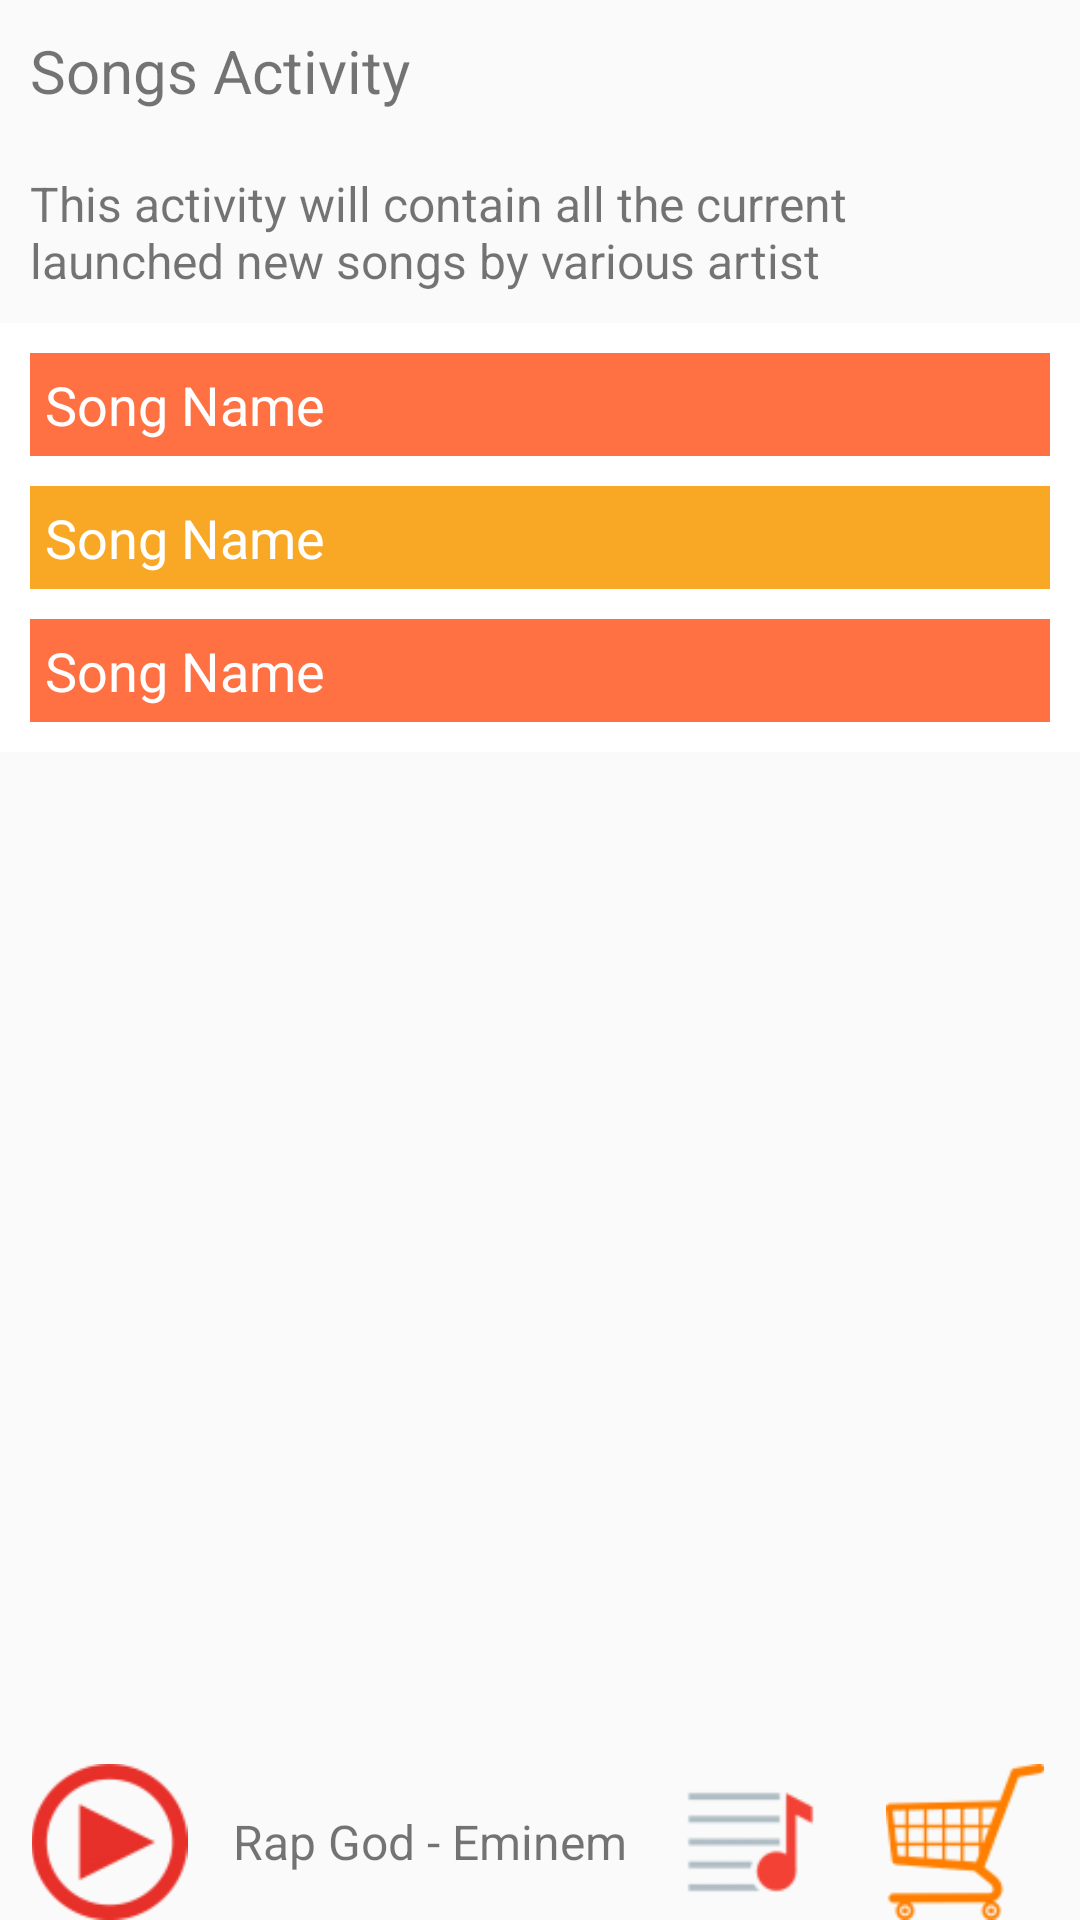

Where icons sit on this 1080px×1920px app screen, as (x1, y1, x2, y2):
cart: (886, 1764, 1044, 1920)
iconplay: (32, 1764, 188, 1920)
playlist: (688, 1792, 814, 1892)
